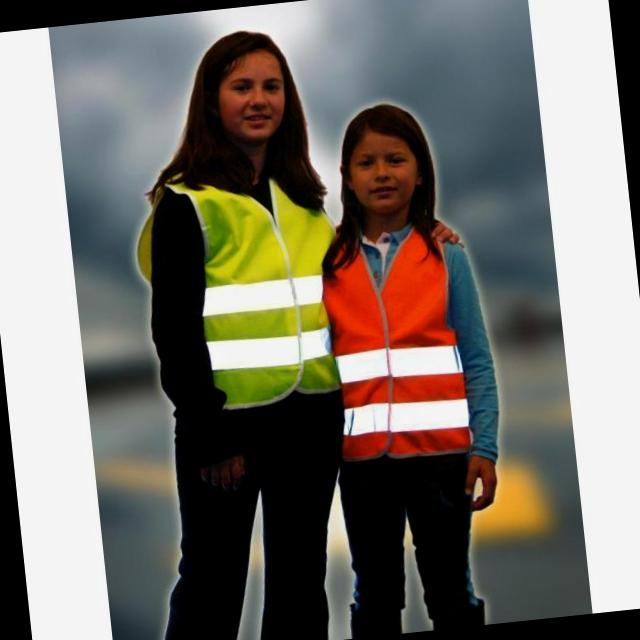vest: (316, 219, 473, 460), (188, 170, 342, 403)
